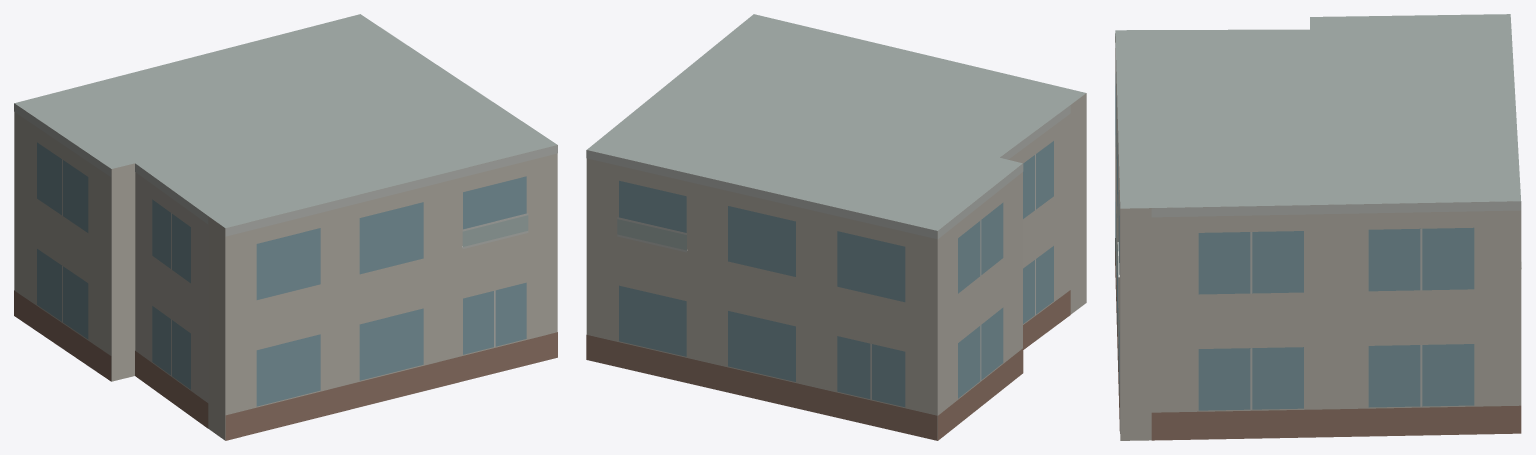
Rendered from survey-upis-32692426.glb.
The picture shows the model from 3 angles, left to right: view 1: azimuth 30°, elevation 25°; view 2: azimuth 150°, elevation 25°; view 3: azimuth 270°, elevation 25°; orthographic projection. The views are drawn at different scales.
Visible parts, largest first — view 1: survey-upis-32692426.tmp; view 2: survey-upis-32692426.tmp; view 3: survey-upis-32692426.tmp.
Part boxes in pixels (x1,y1,x2,y2): survey-upis-32692426.tmp: (14, 14, 557, 440); survey-upis-32692426.tmp: (586, 14, 1086, 440); survey-upis-32692426.tmp: (1115, 14, 1521, 440).
Size of the model in its own units: 10.96 by 6.1 by 9.68.
